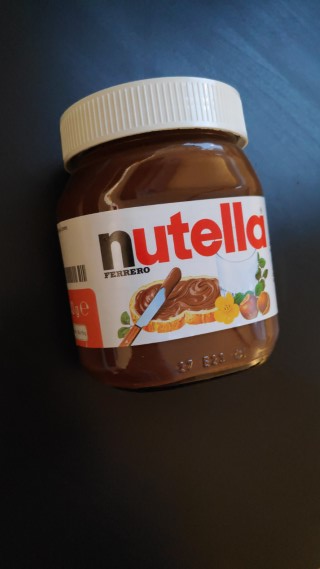nutella: (51, 74, 287, 395)
